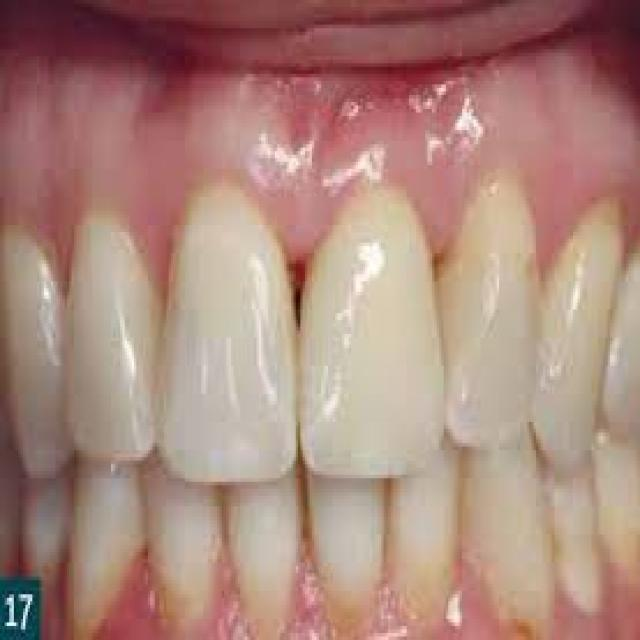tooth: (298, 204, 444, 478), (164, 190, 300, 482), (55, 186, 162, 472), (446, 165, 543, 450), (552, 169, 628, 471), (467, 429, 557, 619), (302, 440, 390, 622), (67, 432, 143, 633), (146, 450, 231, 605), (228, 464, 302, 630), (390, 440, 458, 608)
